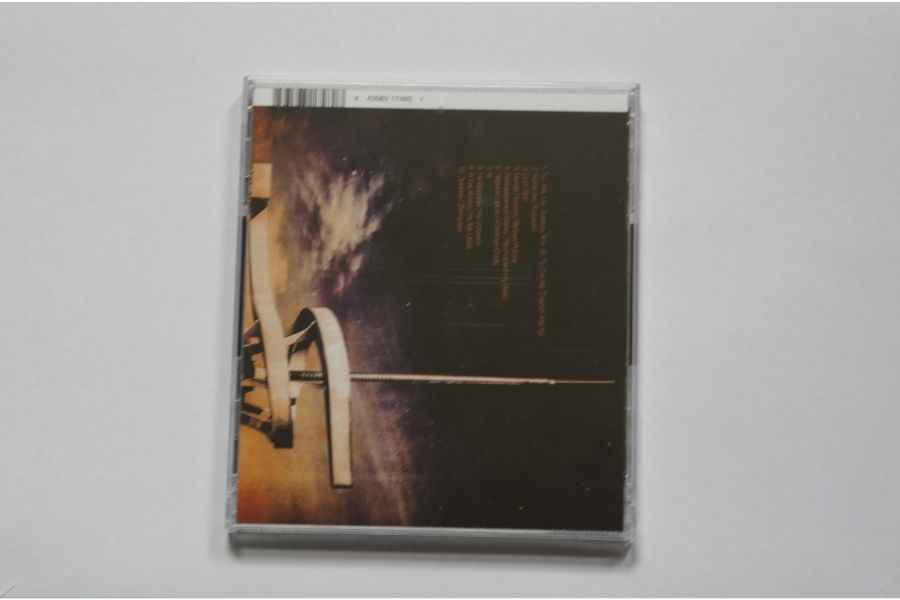album: (227, 76, 639, 547)
